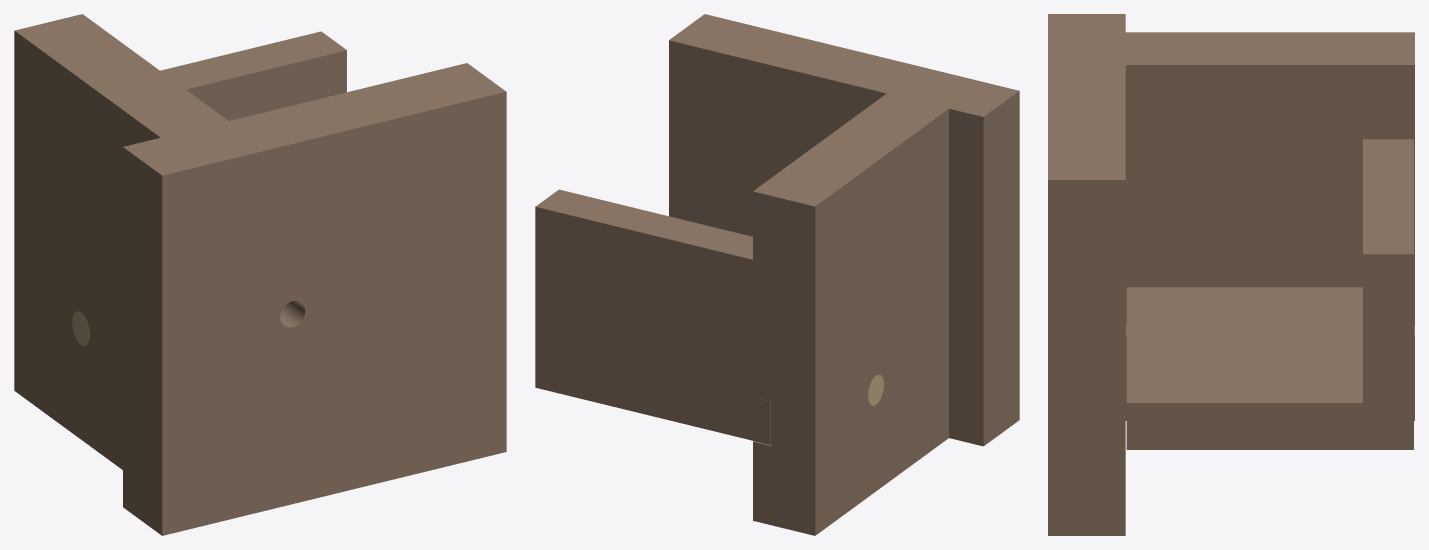
Rendered from left-door-tray-joint.glb.
The picture shows the model from 3 angles, left to right: view 1: azimuth 30°, elevation 25°; view 2: azimuth 150°, elevation 25°; view 3: azimuth 270°, elevation 25°; orthographic projection. The views are drawn at different scales.
Parts seen in each view (by area): view 1: Door-face-18, Door-inner-hinge-18, Door-lip-1-12; view 2: Door-inner-hinge-18, Door-face-18, Door-lip-1-12, Door-tray-1-12; view 3: Door-inner-hinge-18, Door-tray-1-12, Door-face-18, Door-lip-1-12.
Part boxes in pixels (box(x1,y1,x2,y2)): Door-face-18: box(123, 63, 506, 535); Door-inner-hinge-18: box(14, 14, 228, 469); Door-lip-1-12: box(160, 31, 346, 120); Door-inner-hinge-18: box(753, 93, 948, 535); Door-face-18: box(669, 14, 1019, 446); Door-lip-1-12: box(535, 189, 752, 397); Door-tray-1-12: box(535, 344, 770, 444); Door-inner-hinge-18: box(1125, 32, 1414, 420); Door-tray-1-12: box(1126, 287, 1413, 449); Door-face-18: box(1048, 14, 1125, 535); Door-lip-1-12: box(1363, 139, 1413, 402).
Size of the model in its own units: 0.091 by 0.091 by 0.085.
